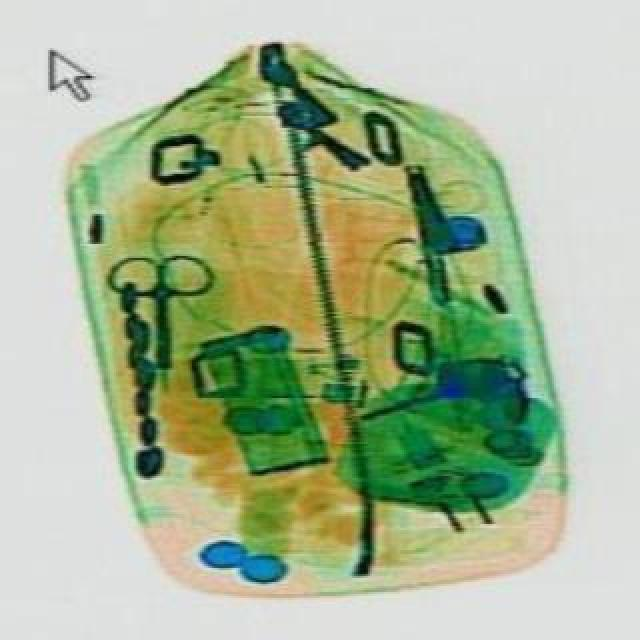pliers: (104, 250, 212, 366)
